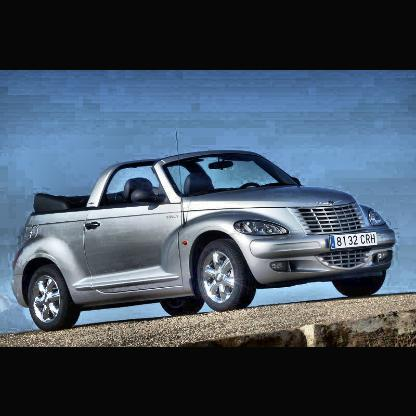Chrysler PT Cruiser Convertible 2008: (12, 149, 397, 332)
